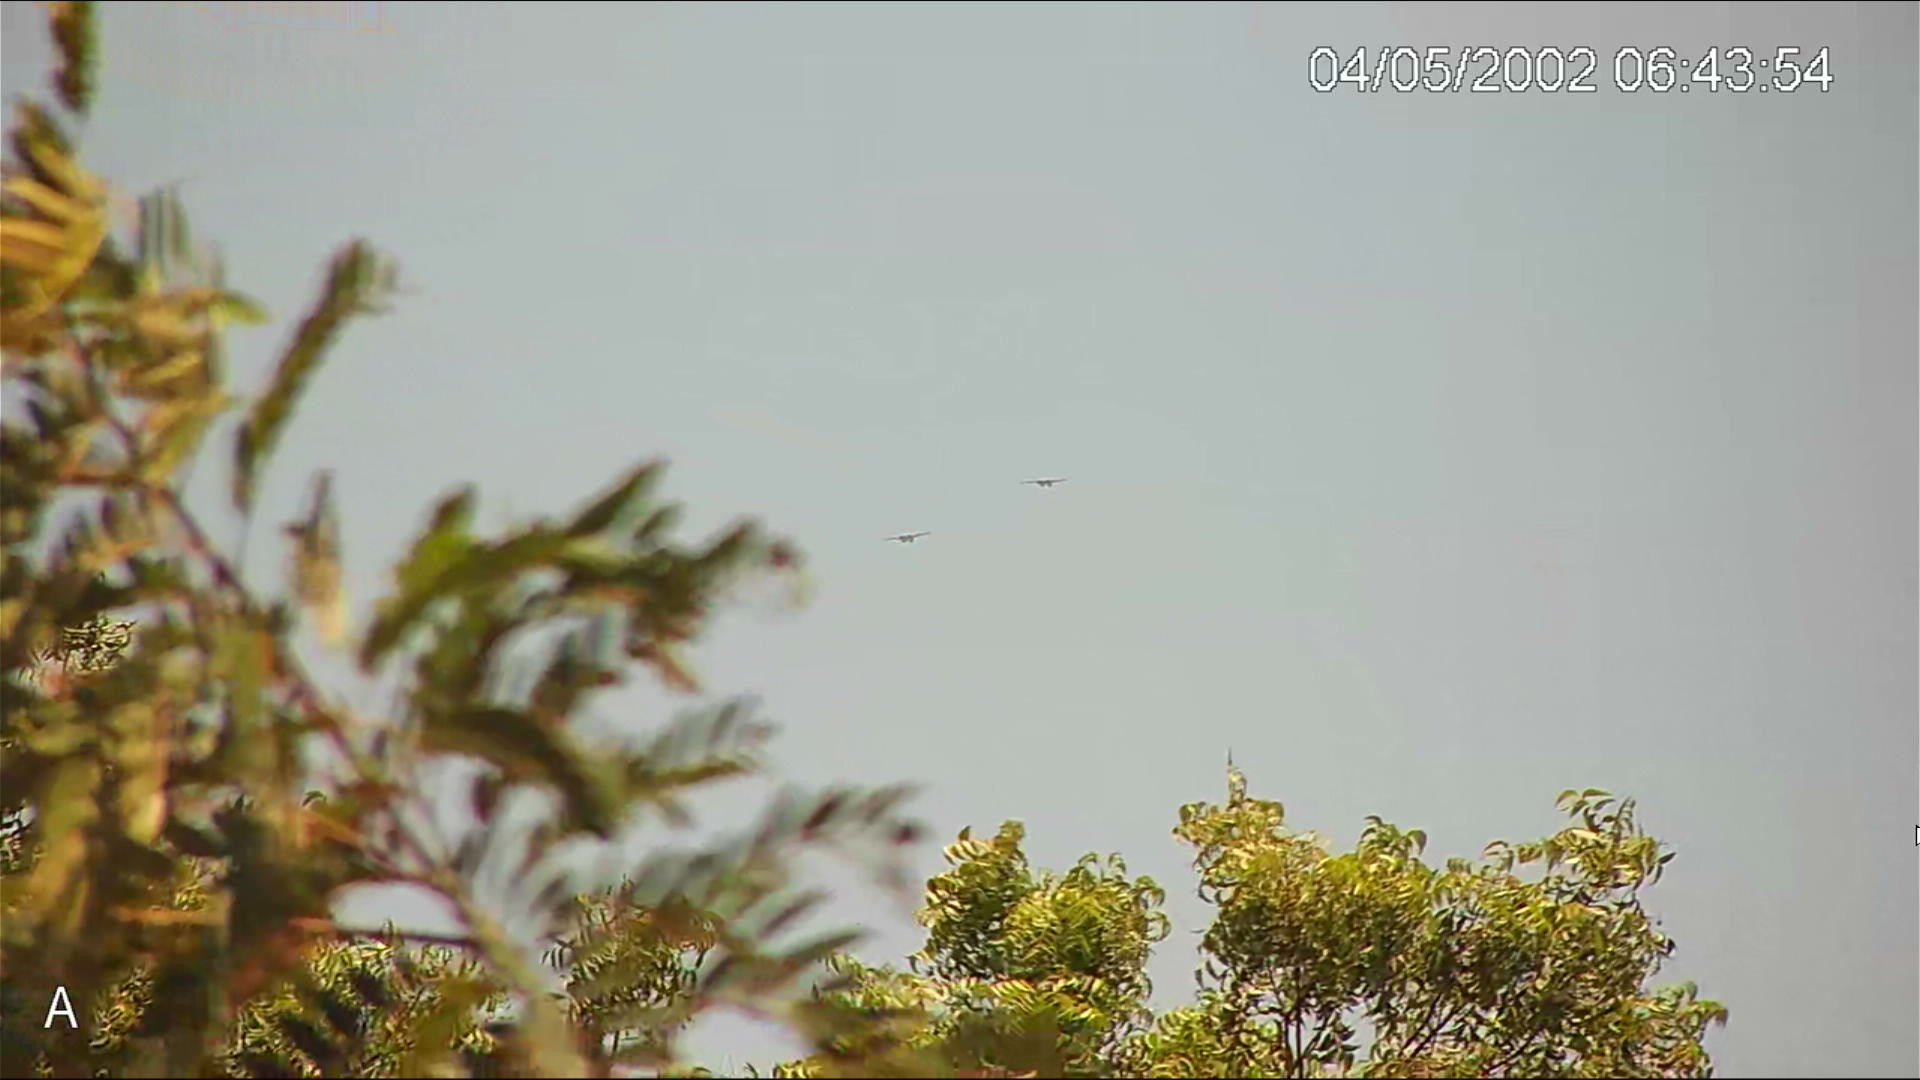SU_30: (1025, 472, 1068, 491), (884, 529, 934, 542)
